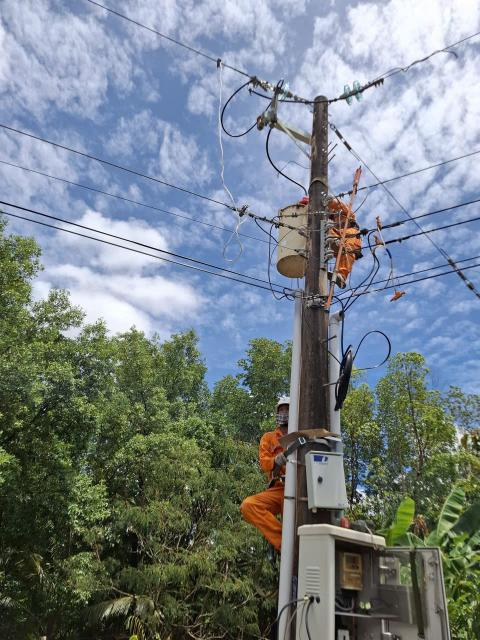gloves: (272, 450, 293, 467)
harness: (263, 467, 299, 486), (329, 218, 366, 235)
helmet: (271, 393, 296, 414)
shoes: (323, 265, 351, 291)
